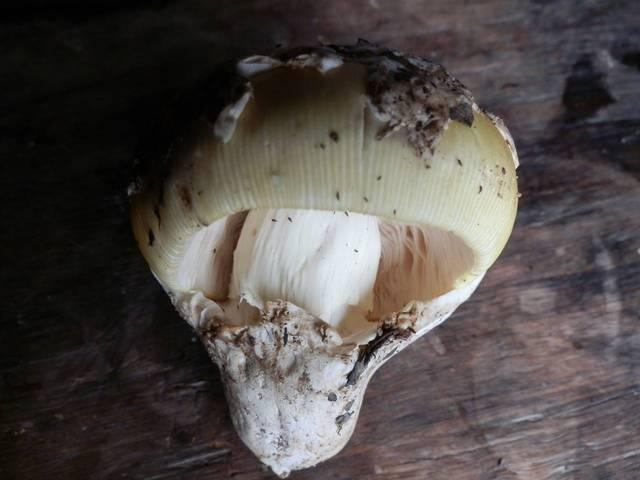Edible Mushroom: (126, 37, 522, 479)
